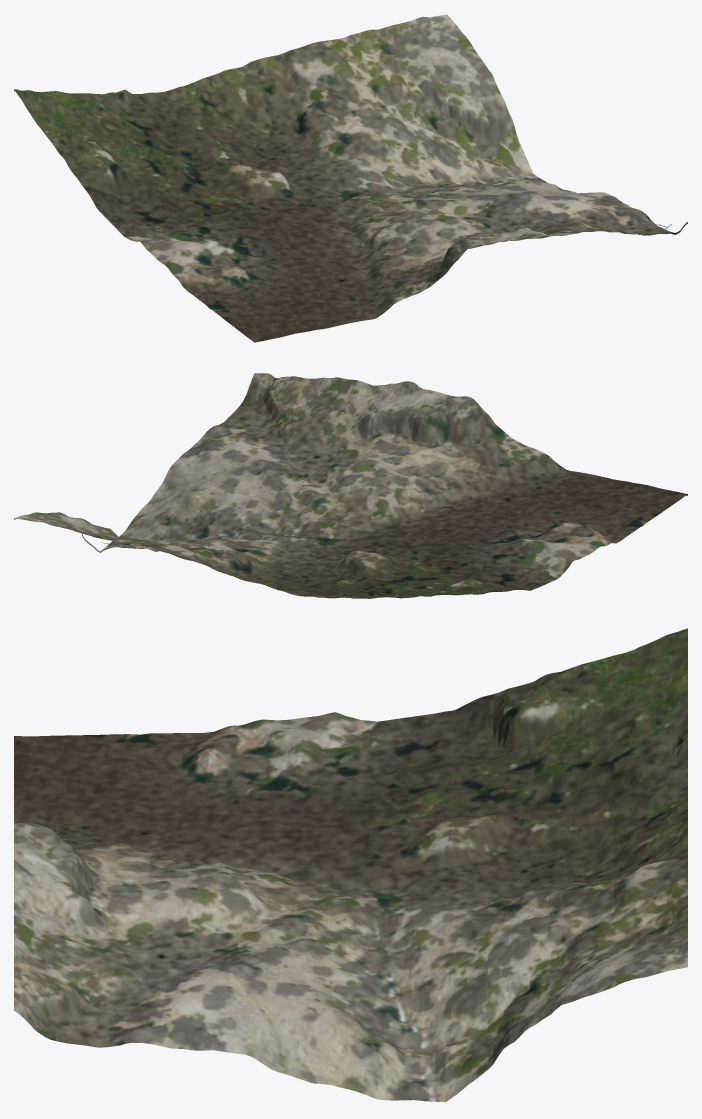
3 renders of one model, top to bottom at view 1: azimuth 30°, elevation 25°; view 2: azimuth 150°, elevation 25°; view 3: azimuth 270°, elevation 25°, orthographic. The views are drawn at different scales.
Bounding box in the file's own units: 250 × 71.13 × 241.
1 material, 1 textured.
